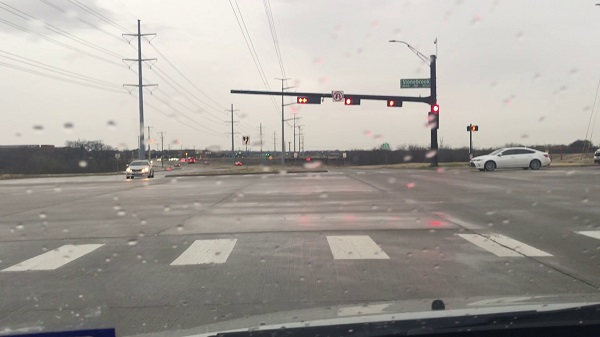car: (471, 143, 551, 172), (123, 159, 156, 180)
